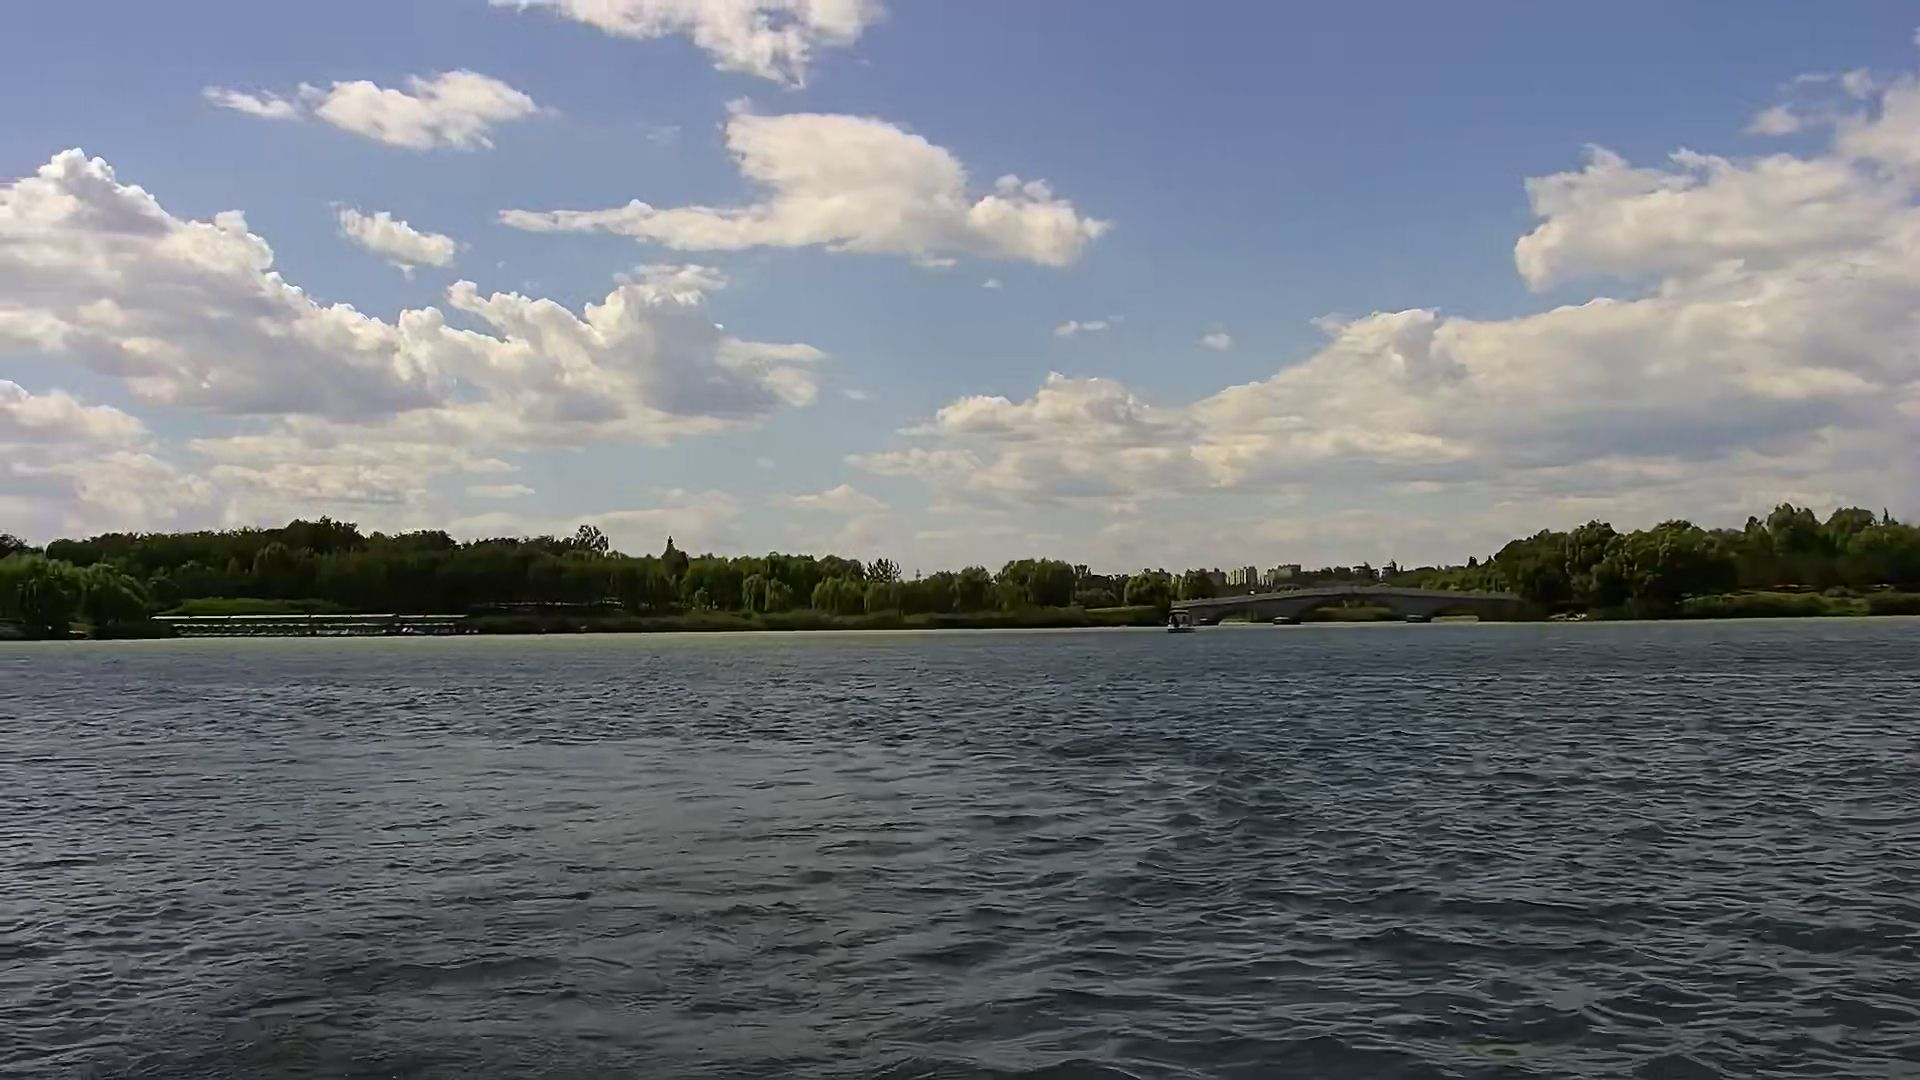boat: (1162, 607, 1199, 632)
bridge: (1163, 582, 1524, 620), (150, 611, 467, 636)
